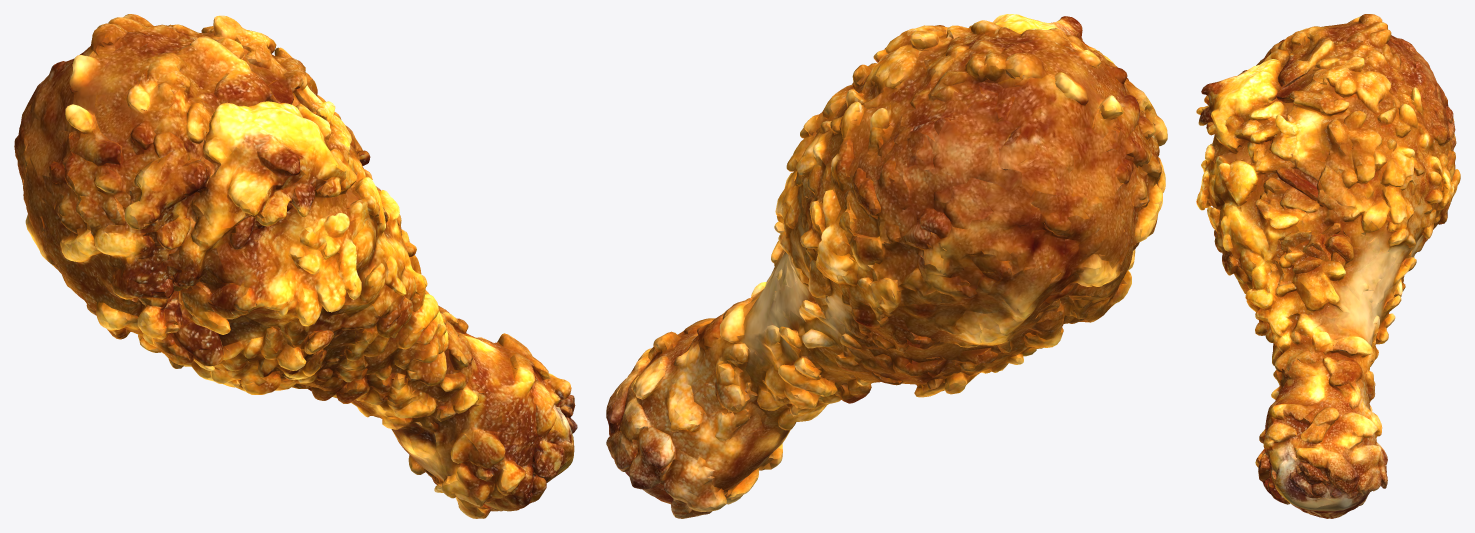
File: drumstick.glb
3 renders of one model, left to right at view 1: azimuth 30°, elevation 25°; view 2: azimuth 150°, elevation 25°; view 3: azimuth 270°, elevation 25°, orthographic. The views are drawn at different scales.
Parts seen in each view (by area): view 1: Mesh_0; view 2: Mesh_0; view 3: Mesh_0.
Boxes of the visible parts, x1,y1,x2,y2 form: Mesh_0: [14, 14, 577, 518]; Mesh_0: [606, 14, 1167, 518]; Mesh_0: [1196, 14, 1460, 518].
Bounding box in the file's own units: 1.86 × 1.9 × 1.2.
1 material, 1 textured.
